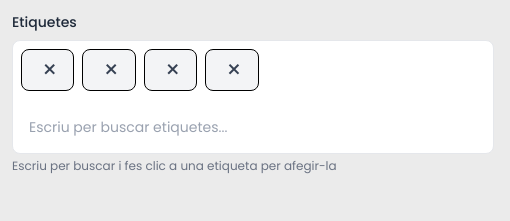
Test: TagInput Component › Interacciones del dropdown › muestra mensaje cuando todos los tags están seleccionados
The width and height of the screenshot is (510, 221).
Click the field with placeholder "Escriu per buscar etiquetes..." at (253, 127), box 21,109 -> 485,145
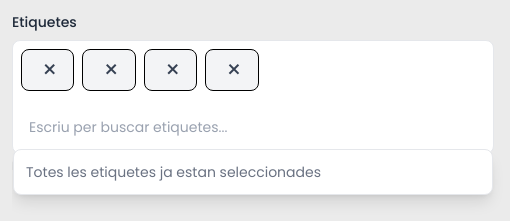
Expected: the text "Totes les etiquetes ja estan seleccionades" is shown, 26,162 -> 321,182
